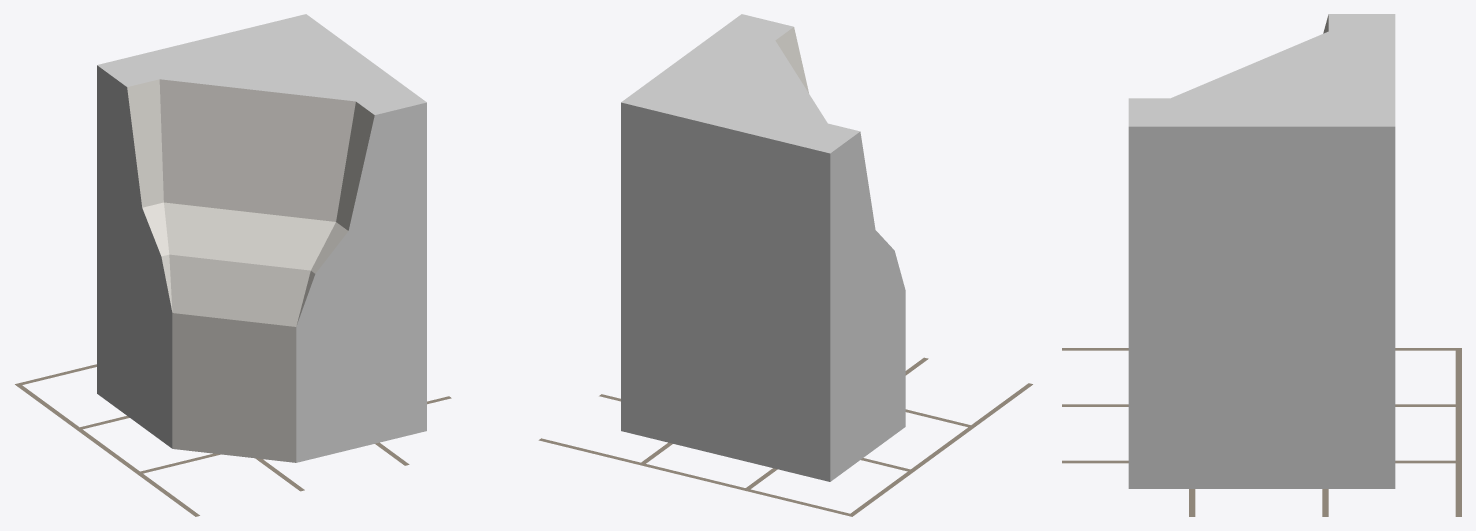
Rendered from Basic_Curve_Inner_2x2_Wide_Base.glb.
The picture shows the model from 3 angles, left to right: view 1: azimuth 30°, elevation 25°; view 2: azimuth 150°, elevation 25°; view 3: azimuth 270°, elevation 25°; orthographic projection. The views are drawn at different scales.
Parts seen in each view (by area): view 1: Basic_Curve_Inner_2x2_Wide_Base, Floor; view 2: Basic_Curve_Inner_2x2_Wide_Base, Floor; view 3: Basic_Curve_Inner_2x2_Wide_Base, Floor.
Boxes of the visible parts, box(x1,y1,x2,y2) form: Basic_Curve_Inner_2x2_Wide_Base: box(97, 14, 426, 462); Floor: box(15, 364, 451, 516); Basic_Curve_Inner_2x2_Wide_Base: box(621, 14, 905, 481); Floor: box(538, 357, 1032, 516); Basic_Curve_Inner_2x2_Wide_Base: box(1128, 14, 1395, 488); Floor: box(1062, 348, 1461, 516).
Bounding box in the file's own units: 300 × 300 × 300.
3 materials, 1 textured.
